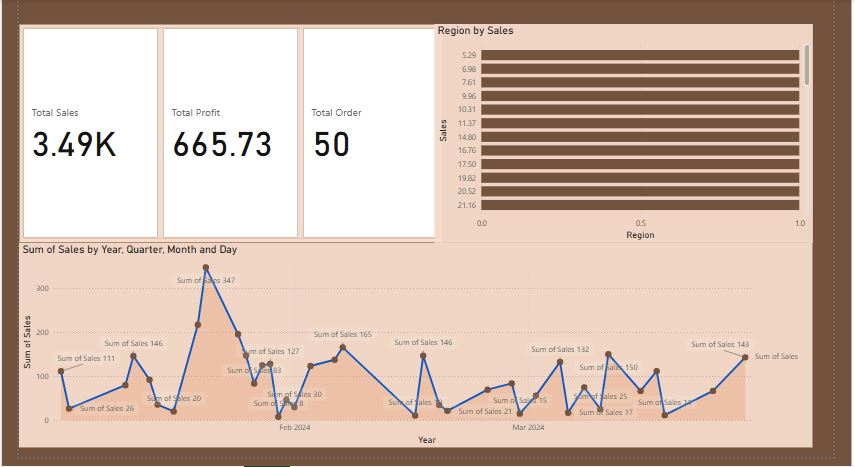

The dashboard page shown, as its layout file describes it:
{"tool":"powerbi","page":{"name":"Page 1","canvas":[1280,720],"ordinal":0},"visuals":[{"type":"cardVisual","fields":{"Data":["Sum(Sheet1.Sales)","Sum(Sheet1.Profit)","CountNonNull(Sheet1.Order ID)"]},"box":[10,0,343.3,220],"z":0},{"type":"lineChart","fields":{"Y":["Sum(Sheet1.Sales)"],"Category":["Sheet1.Date.Variation.Date Hierarchy.Year","Sheet1.Date.Variation.Date Hierarchy.Quarter","Sheet1.Date.Variation.Date Hierarchy.Month","Sheet1.Date.Variation.Date Hierarchy.Day"]},"box":[0,430,1248.3,276.7],"z":1000},{"type":"clusteredBarChart","fields":{"Category":["Sheet1.Sales"],"Y":["CountNonNull(Sheet1.Region)"]},"box":[373.3,0,380,325],"z":2000}]}

Visuals, with their boxes in screenshot pixels (x1, y1, x2, y2), scaled from the page's 1280x720 canvas onto the 855x467 screenshot:
cardVisual - Sum(Sheet1.Sales) x Sum(Sheet1.Profit): detection(7, 0, 236, 143)
lineChart - Sum(Sheet1.Sales) x Sheet1.Date.Variation.Date Hierarchy.Year: detection(0, 279, 834, 458)
clusteredBarChart - Sheet1.Sales x CountNonNull(Sheet1.Region): detection(249, 0, 503, 211)
